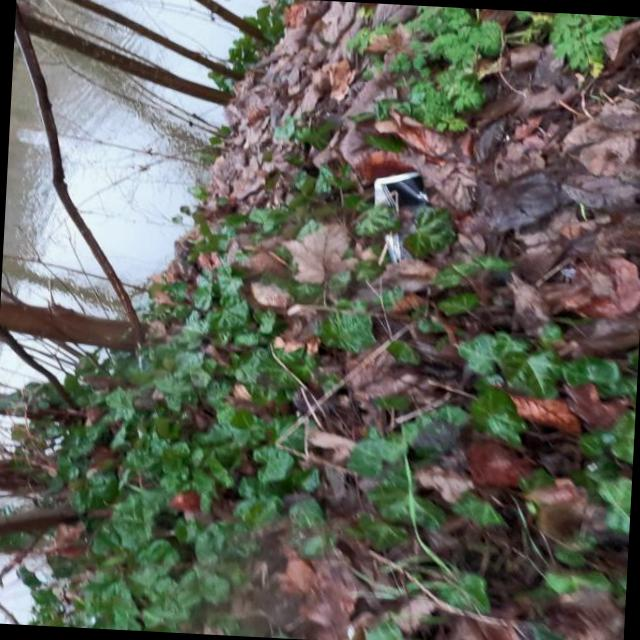Can-Metal: (368, 162, 424, 258)
